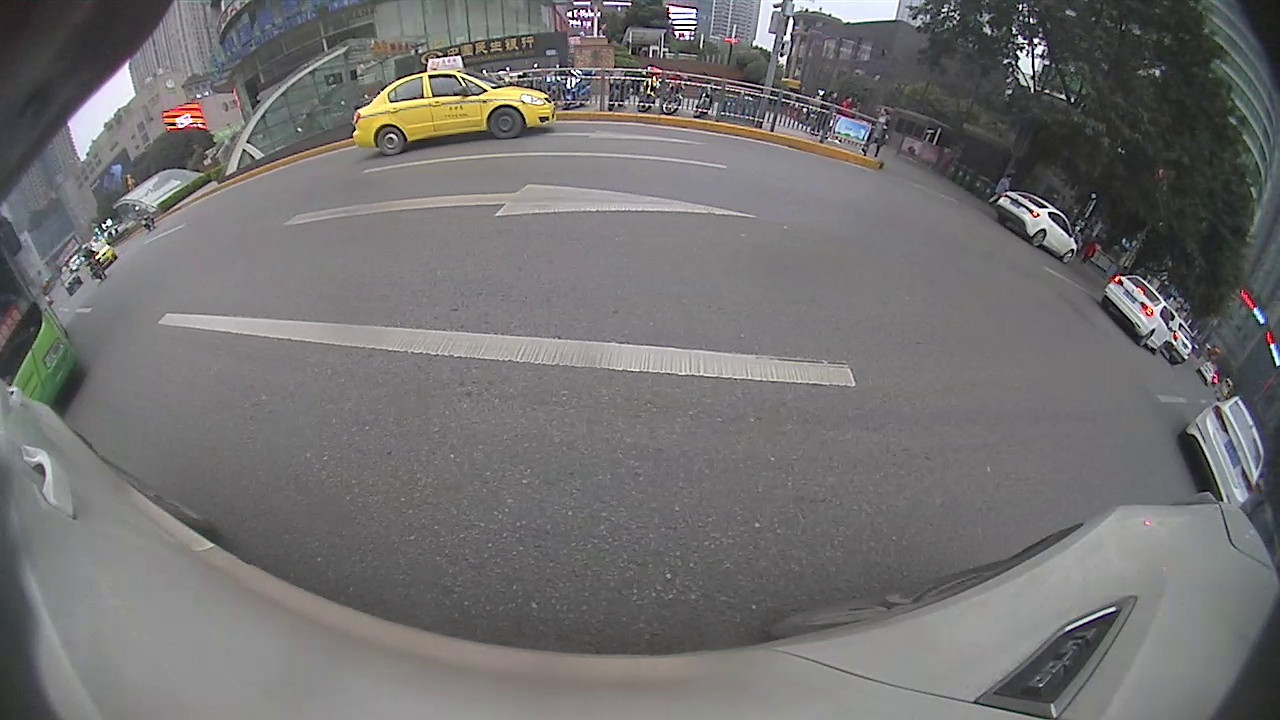car: (348, 53, 556, 157), (1175, 393, 1265, 512), (992, 188, 1081, 265), (1099, 272, 1174, 358)
front: (487, 106, 524, 141), (1061, 250, 1074, 264)
rear: (377, 127, 407, 157), (1030, 227, 1048, 249)
